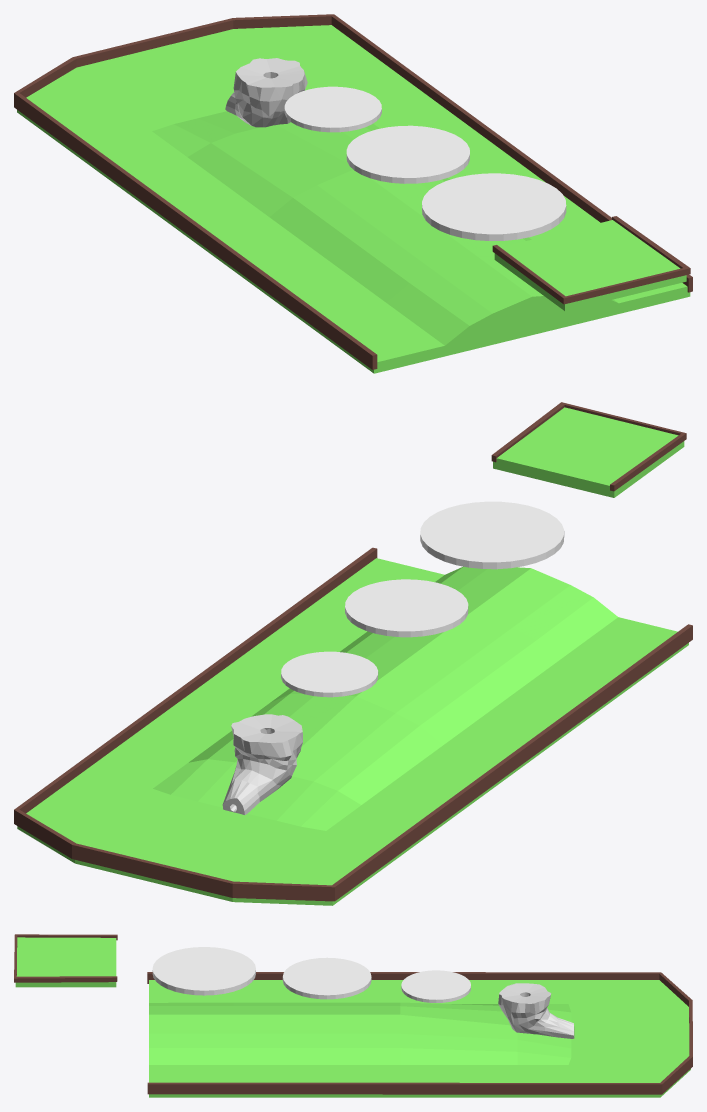
3 renders of one model, top to bottom at view 1: azimuth 30°, elevation 25°; view 2: azimuth 150°, elevation 25°; view 3: azimuth 270°, elevation 25°, orthographic. The views are drawn at different scales.
Parts seen in each view (by area): view 1: Cube.068, Cube.069, Cube.067, Cylinder.026, Cylinder.027, Cylinder.029, Cylinder.028, Cube.070; view 2: Cube.068, Cube.069, Cube.067, Cylinder.026, Cylinder.027, Cylinder.029, Cylinder.028, Cube.070; view 3: Cube.068, Cube.069, Cube.067, Cylinder.026, Cylinder.027, Cylinder.029, Cylinder.028, Cube.070.
Boxes of the visible parts, x1,y1,x2,y2 form: Cube.068: (17,25,690,373); Cube.069: (14,14,692,369); Cube.067: (494,220,686,311); Cylinder.026: (422,173,566,240); Cylinder.027: (346,125,469,183); Cylinder.029: (225,58,307,127); Cylinder.028: (284,86,381,132); Cube.070: (492,216,690,304); Cube.068: (17,558,688,905); Cube.069: (14,547,692,901); Cube.067: (493,407,684,497); Cylinder.026: (420,501,564,569); Cylinder.027: (345,579,468,637); Cylinder.029: (222,714,302,814); Cylinder.028: (281,651,378,697); Cube.070: (491,402,686,491); Cube.068: (149,980,690,1097); Cube.069: (147,972,692,1094); Cube.067: (15,937,116,987); Cylinder.026: (152,947,255,995); Cylinder.027: (282,957,371,999); Cylinder.029: (498,983,574,1038); Cylinder.028: (401,970,470,1002); Cube.070: (14,934,117,982).
Size of the model in its own units: 1093 by 391 by 2794.
